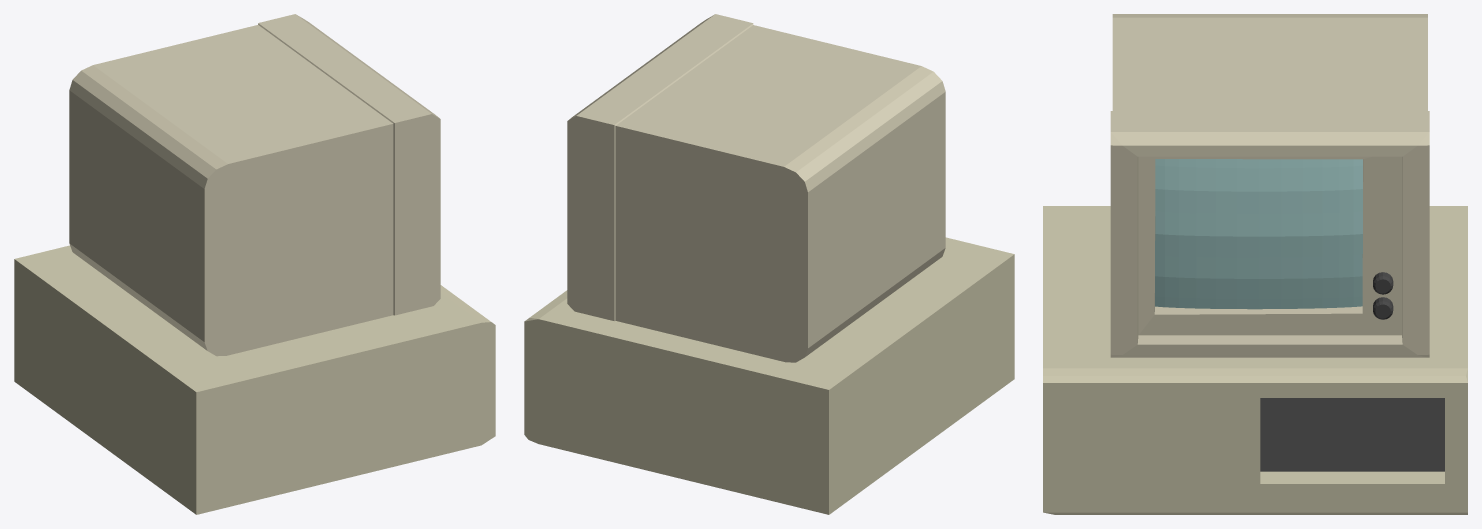
File: computer.fbx
3 views of the same model, side by side, from view 1: azimuth 30°, elevation 25°; view 2: azimuth 150°, elevation 25°; view 3: azimuth 270°, elevation 25° (orthographic). The views are drawn at different scales.
Parts seen in each view (by area): view 1: Cube, Cube.001; view 2: Cube, Cube.001; view 3: Cube, Cube.001, Cylinder, Cube.002.
Part boxes in pixels (<box>): Cube: <box>69,14,440,356</box>; Cube.001: <box>14,245,495,514</box>; Cube: <box>567,14,945,362</box>; Cube.001: <box>524,237,1014,514</box>; Cube: <box>1110,14,1429,357</box>; Cube.001: <box>1043,206,1467,514</box>; Cylinder: <box>1155,159,1362,309</box>; Cube.002: <box>1260,398,1444,471</box>.
Size of the model in its own units: 256 by 257 by 269.
